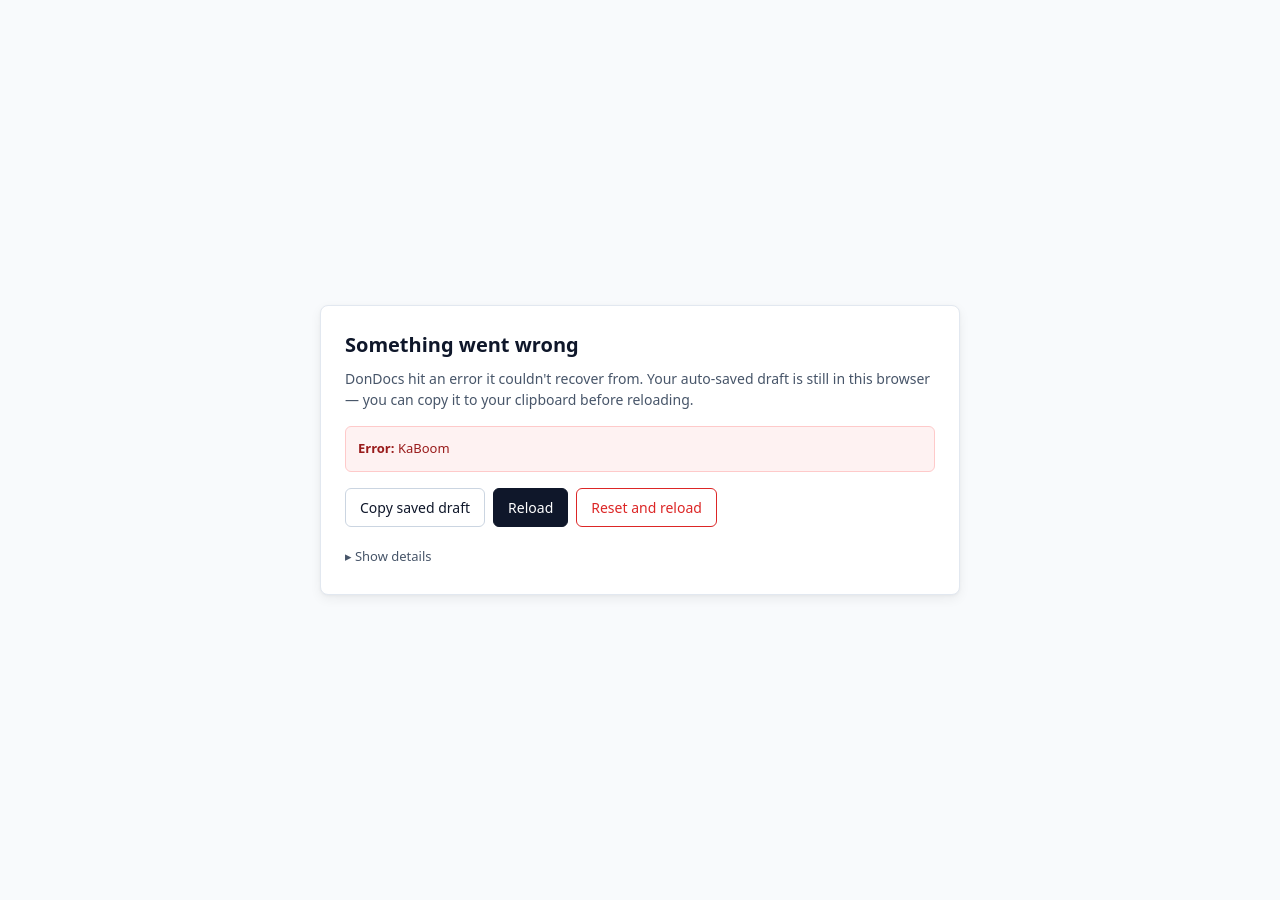
it: ErrorBoundary › "Copy saved draft" reports "No saved draft" when nothing is stored
Click the button with aria-label "copy auto-saved session".
click(415, 507)  # box x1=345 y1=488 x2=485 y2=526
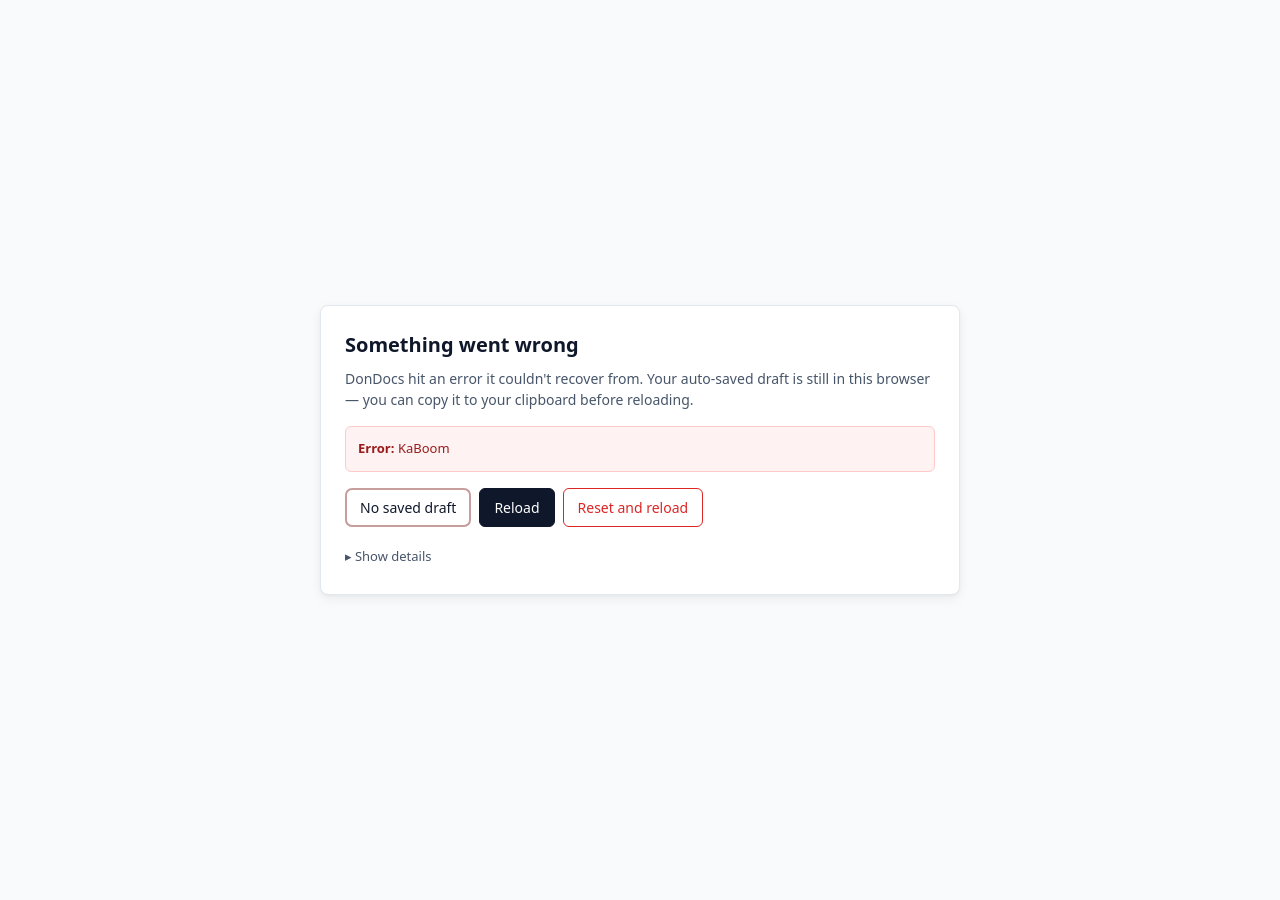
expect the button "No saved draft" is shown: met, box x1=345 y1=488 x2=471 y2=526
